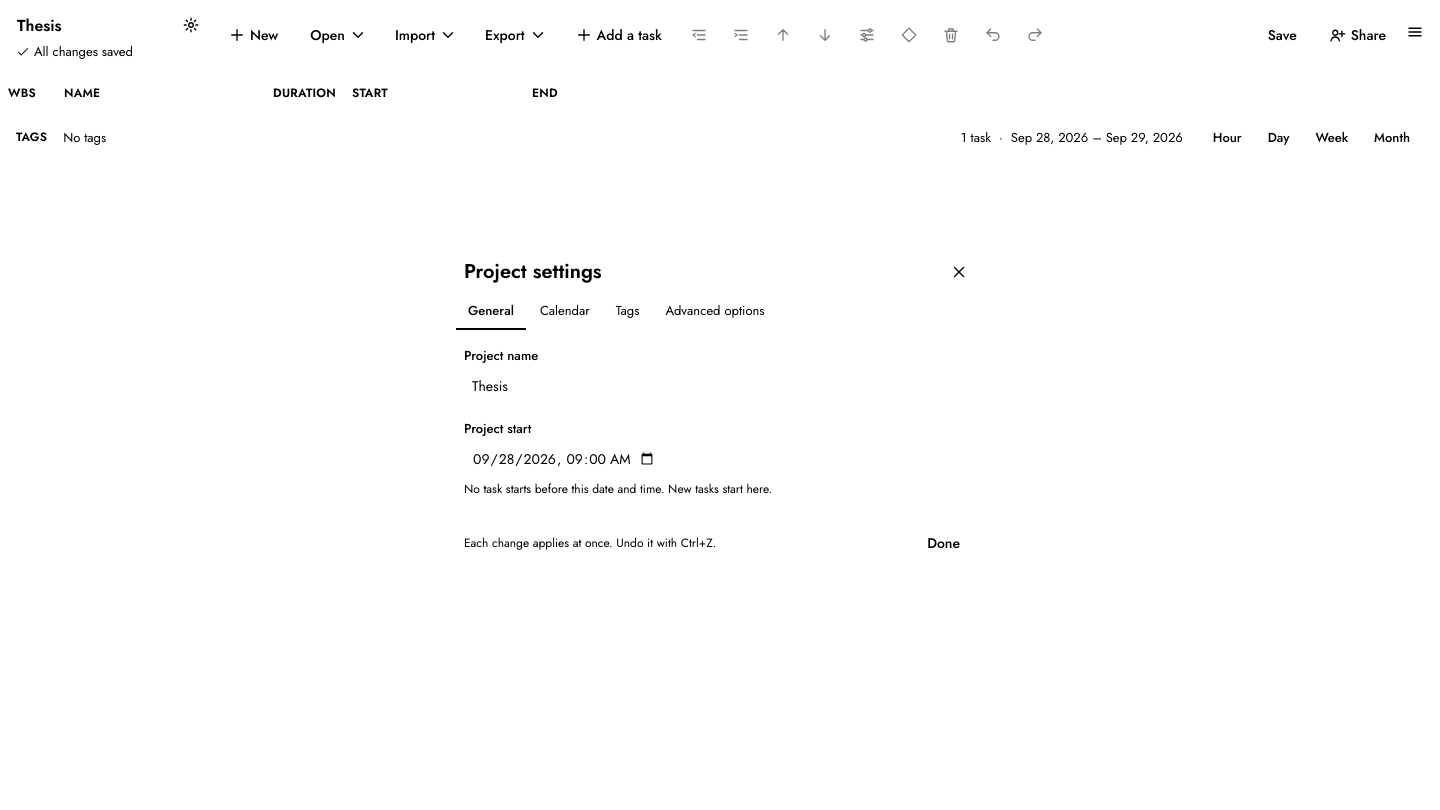
Scenario: the project settings › show inside them why the dates could not be computed
The width and height of the screenshot is (1440, 810).
Replace the text in the 2nd field with "2026-10-05T09:00" at x=564, y=458, box x1=464 y1=442 x2=664 y2=476
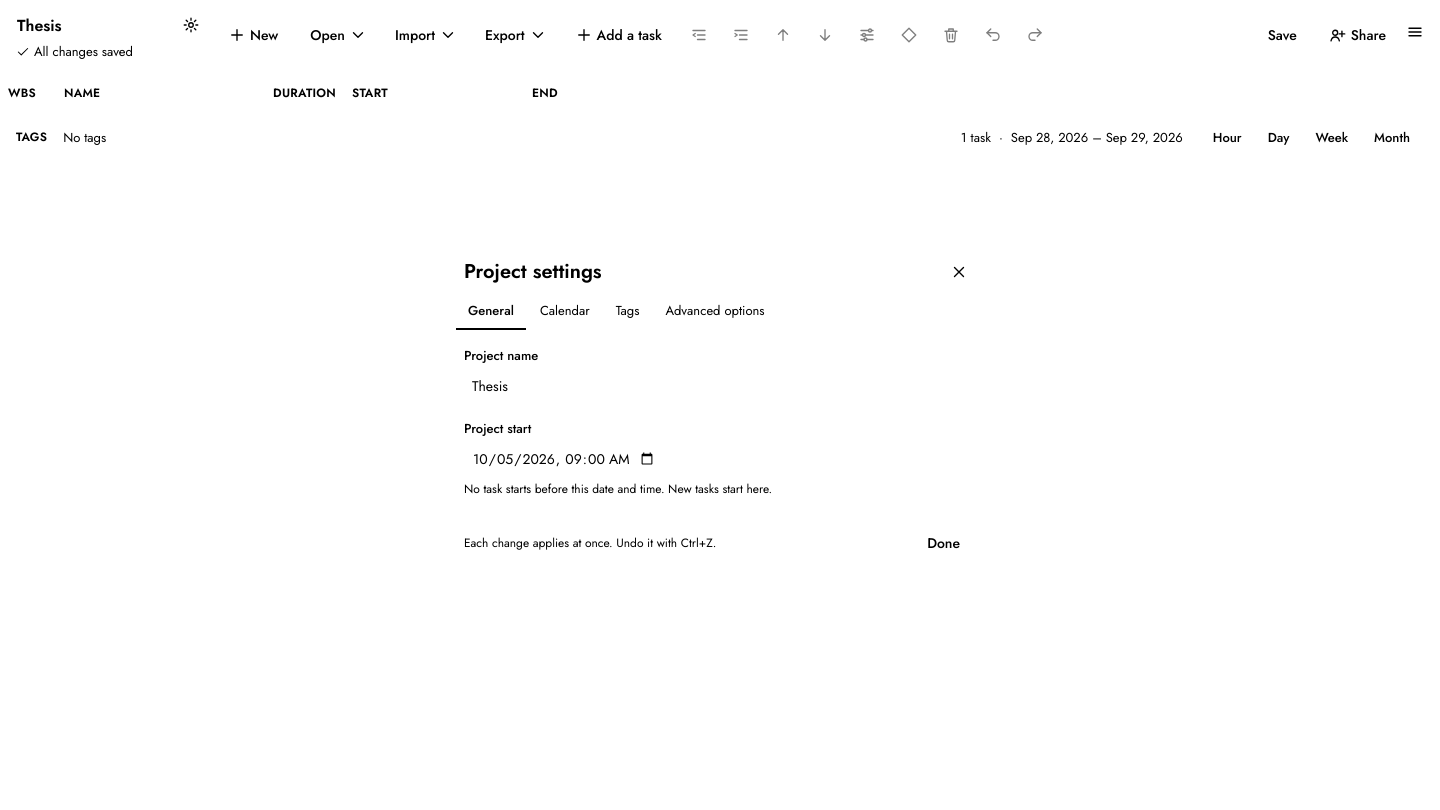
Leave the 2nd field, box x1=464 y1=442 x2=664 y2=476
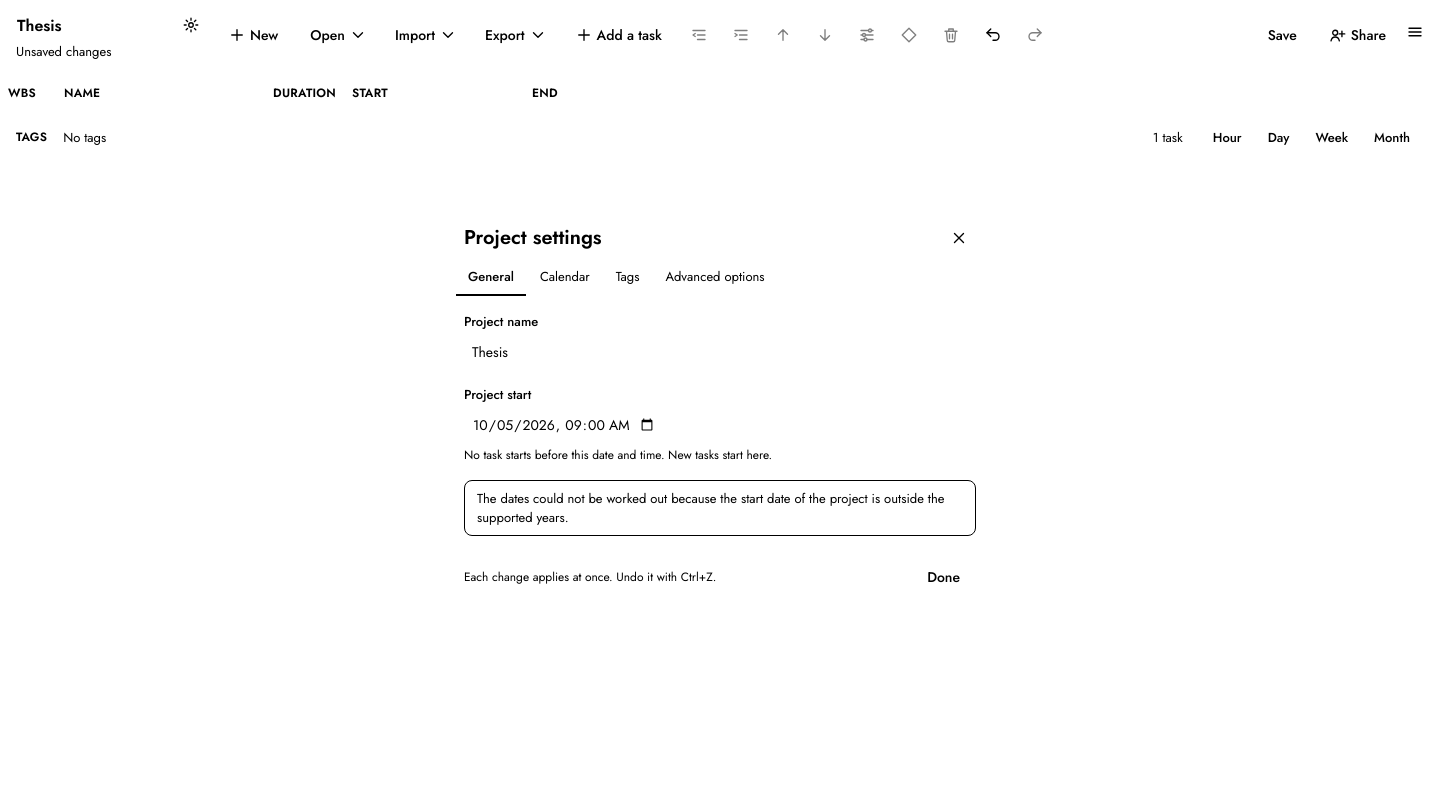
Check: the message with class "alert" shows "The dates could not be worked out because the start date of the project is outside the supported years.", box x1=477 y1=488 x2=944 y2=526
